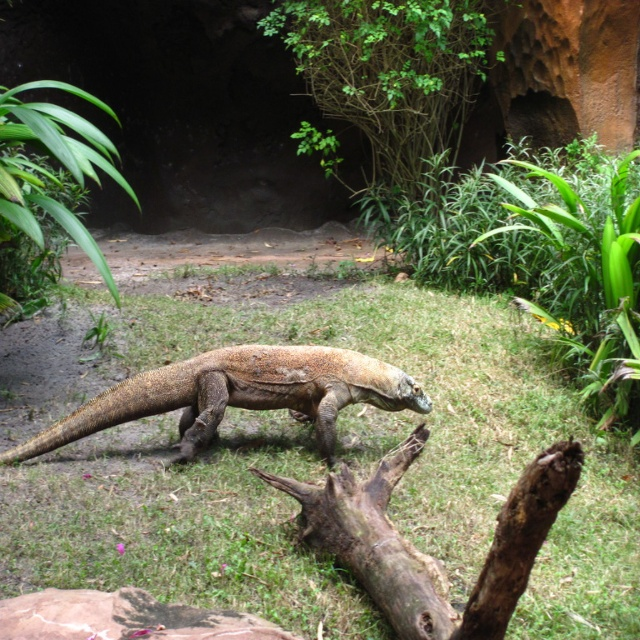Lizard: (0, 346, 433, 471)
